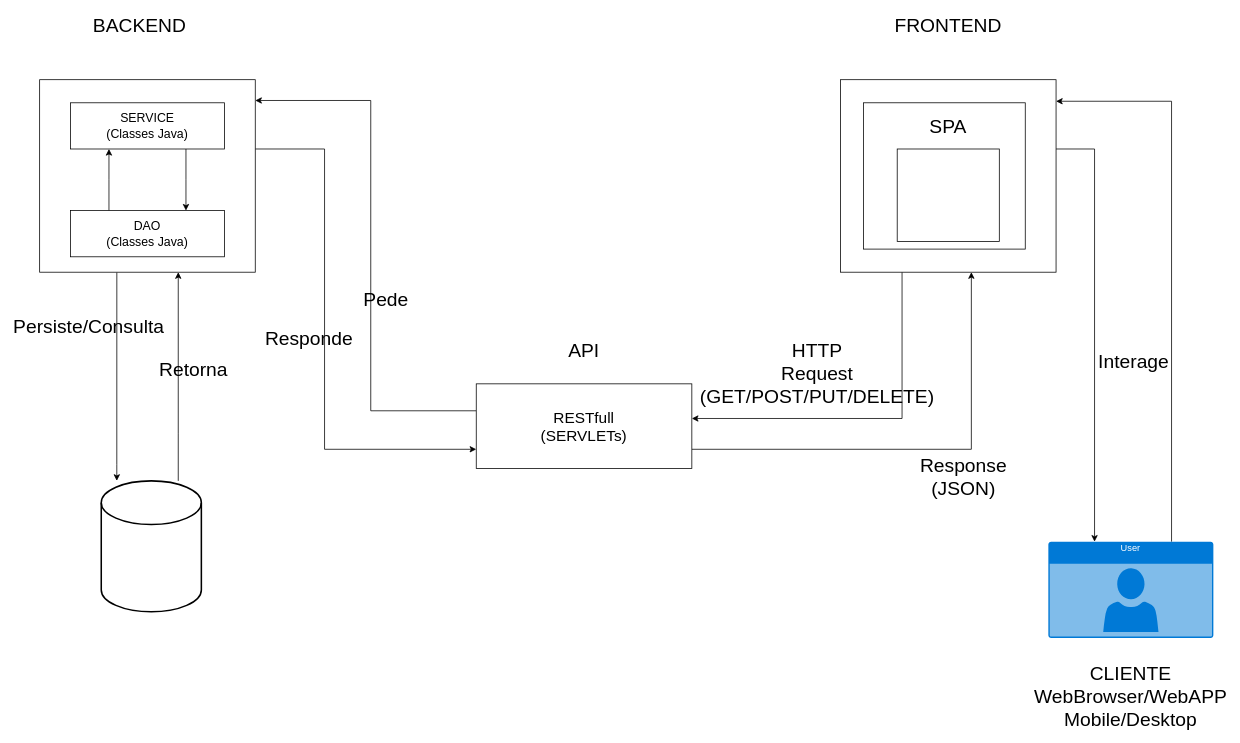
Some shapes in this 1240 by 743 pixel diagram are drawn without their labels. The shapes that lost their labels are listed below. From the top down, each one's centre as x and y in pixels, then its label:
At (947,194): "View".
At (151,546): "BD MySQL".
